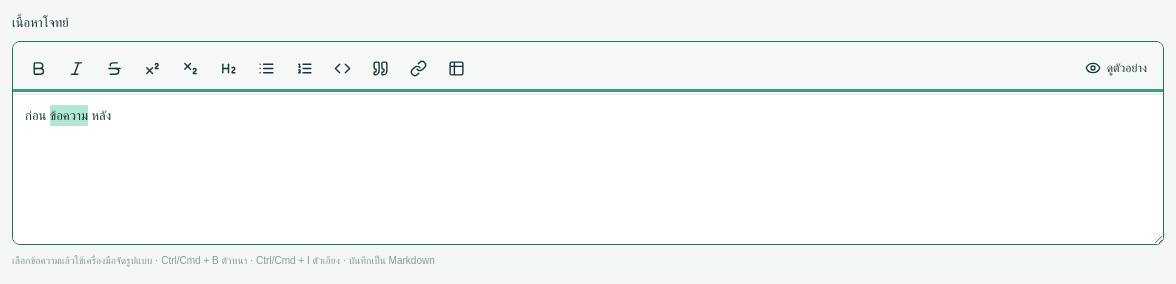
Test: Markdown editor › formats only the selection, preserves surrounding text and toggles formatting
Click the button named "ตัวหนา".
click(38, 68)  # box [21,50,55,86]
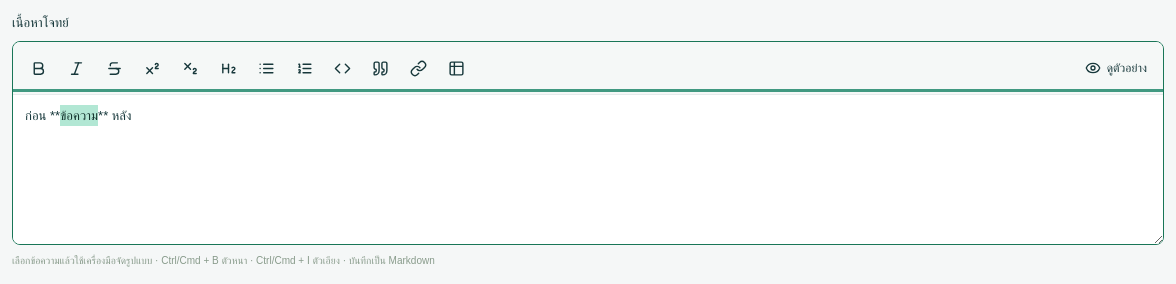
Now the text box labelled "เนื้อหาโจทย์" holds "ก่อน **ข้อความ** หลัง", box [13,95,1163,244]
Click the button named "ตัวหนา".
click(38, 68)  # box [21,50,55,86]
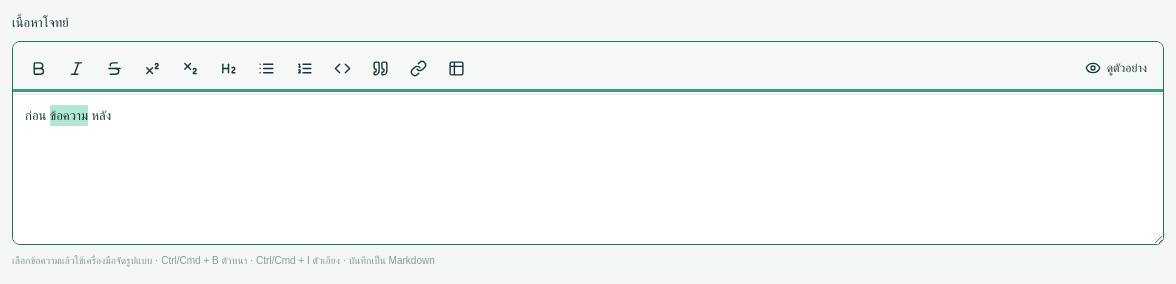
Now the text box labelled "เนื้อหาโจทย์" holds "ก่อน ข้อความ หลัง"
Press i in the text box labelled "เนื้อหาโจทย์", box [13,95,1163,244]
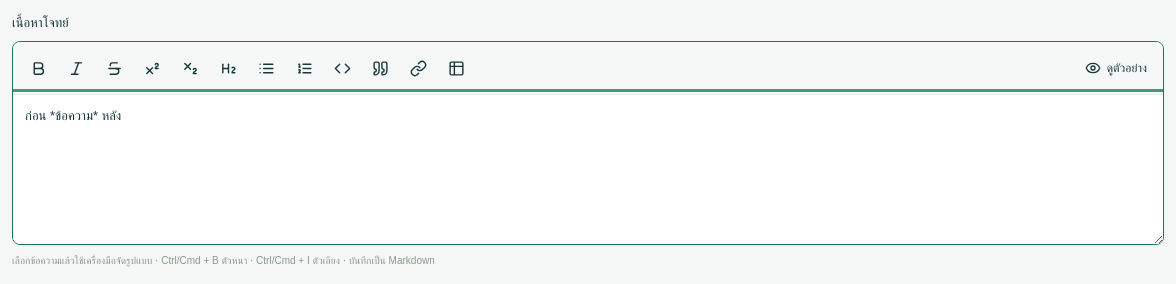
Now the text box labelled "เนื้อหาโจทย์" holds "ก่อน *ข้อความ* หลัง", box [13,95,1163,244]
